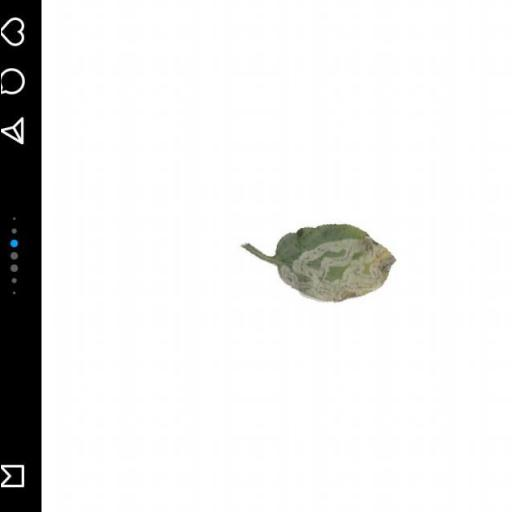Leaf Miner: (272, 226, 396, 306)
